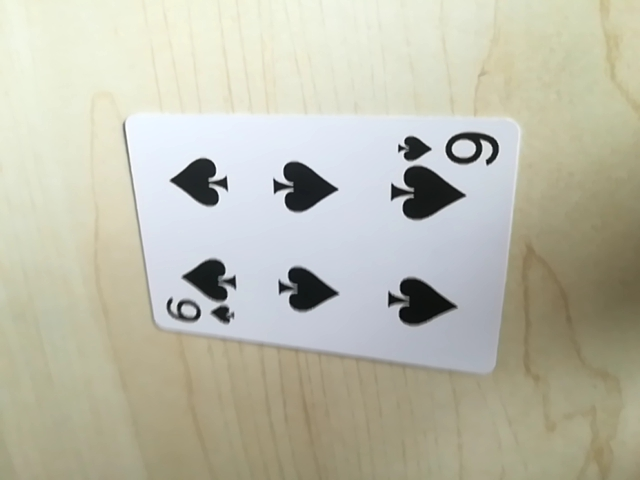ht 6: (393, 124, 504, 166), (162, 295, 238, 330)
